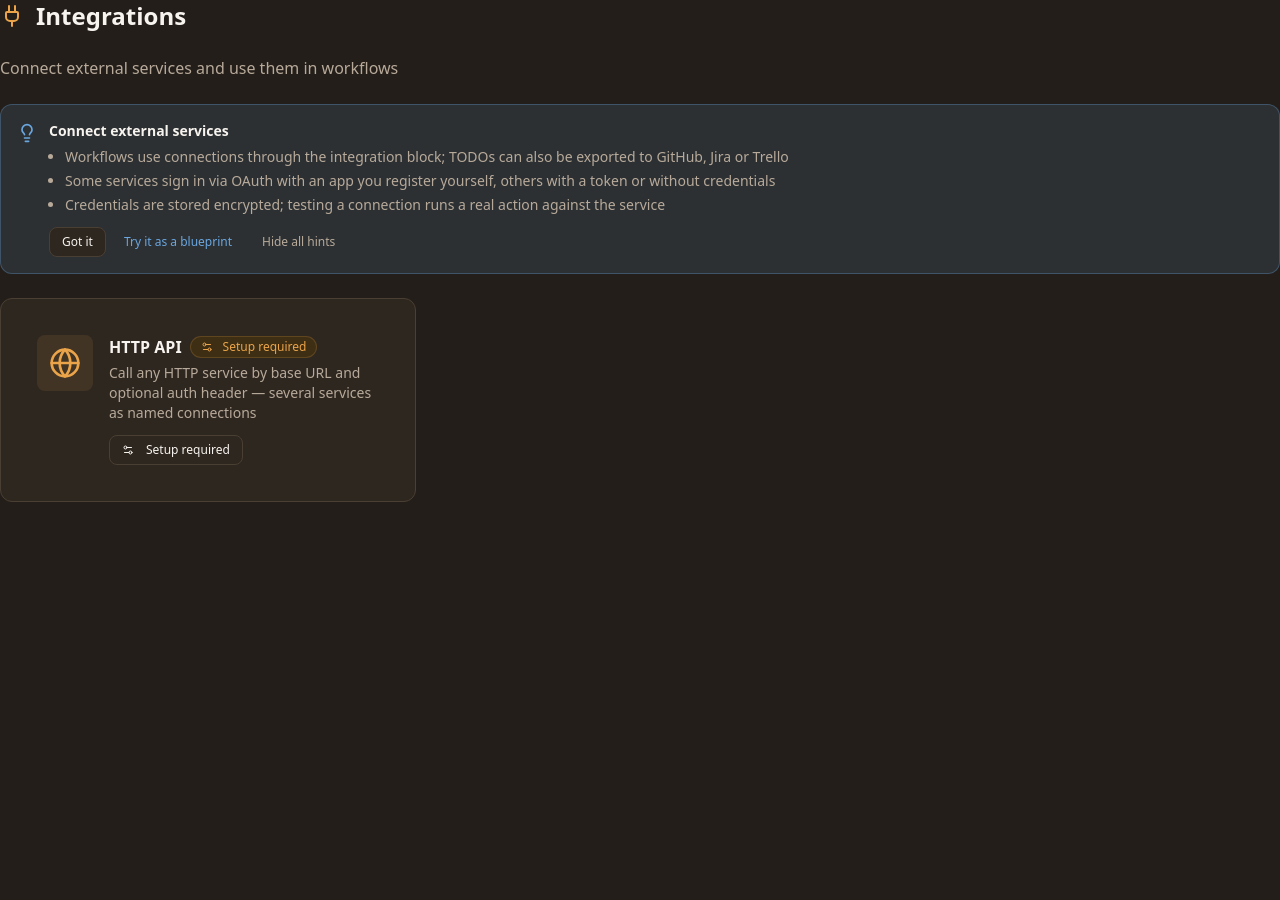
Integrations — HTTP API provider › shows the setup guide with base-URL and auth-header fields
Click the heading "HTTP API".
click(145, 347)  # box [109,335,182,359]
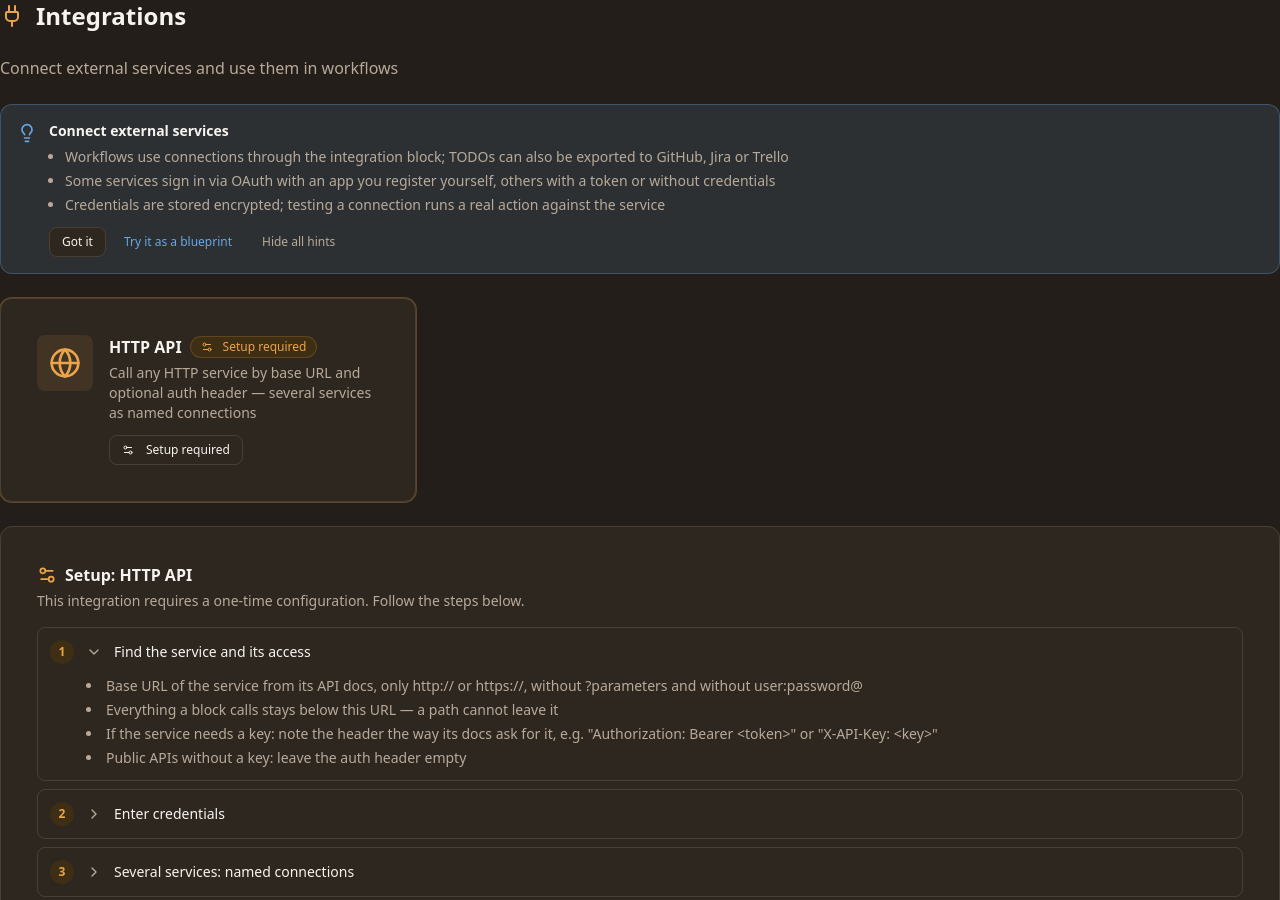
Expected: the text "Several services: named connections" is shown, [114,862,354,882]
